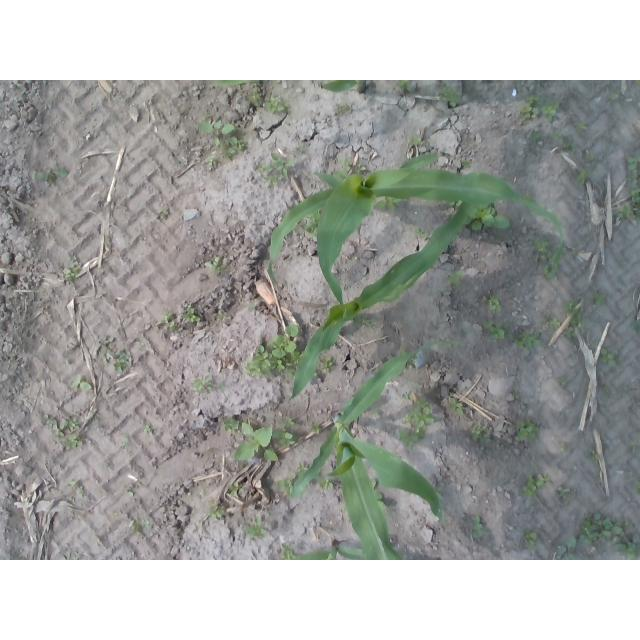Maize: (268, 153, 564, 311), (287, 202, 484, 402), (289, 341, 464, 560), (211, 80, 370, 94), (293, 538, 364, 560)
Weeds: (245, 325, 303, 379), (578, 512, 640, 560), (398, 398, 436, 449), (233, 422, 279, 462), (254, 152, 294, 190), (42, 413, 83, 449), (465, 202, 512, 232), (199, 114, 236, 147), (98, 336, 130, 373), (520, 474, 554, 499), (333, 158, 368, 182), (552, 534, 578, 560), (483, 320, 514, 341), (192, 375, 226, 394), (563, 300, 585, 329), (520, 94, 544, 120), (302, 208, 323, 237), (34, 168, 69, 185), (514, 419, 539, 442), (371, 478, 388, 511), (62, 256, 82, 283), (624, 152, 640, 185), (244, 515, 266, 539), (514, 331, 543, 349), (471, 420, 492, 444), (438, 82, 458, 107), (277, 471, 296, 497), (372, 194, 401, 211), (179, 301, 201, 323), (533, 239, 554, 262), (157, 312, 179, 333), (224, 137, 246, 158), (445, 270, 464, 293), (264, 98, 288, 115), (205, 501, 226, 520), (599, 349, 620, 368), (280, 430, 301, 448), (71, 375, 94, 391), (472, 516, 488, 539), (203, 256, 225, 272), (352, 316, 377, 330), (524, 529, 539, 552), (543, 100, 560, 120), (129, 519, 151, 534), (67, 480, 85, 498), (279, 542, 297, 560), (400, 350, 417, 369), (221, 416, 240, 433), (482, 295, 502, 311), (228, 480, 245, 497), (556, 486, 573, 503), (448, 398, 464, 415), (629, 186, 640, 210), (576, 169, 592, 184), (247, 89, 261, 106), (412, 226, 430, 239), (319, 356, 333, 372), (584, 448, 600, 462), (591, 291, 606, 305), (560, 327, 576, 340), (397, 80, 412, 93), (617, 205, 632, 218), (627, 438, 640, 453), (336, 105, 353, 116), (318, 479, 334, 490), (280, 417, 297, 427), (296, 461, 308, 475), (411, 135, 426, 145), (577, 123, 590, 134), (548, 316, 561, 327), (311, 420, 321, 434), (446, 199, 463, 207), (564, 140, 575, 152), (552, 130, 563, 141), (520, 191, 532, 201), (206, 156, 219, 165), (61, 554, 80, 560), (557, 377, 568, 387), (217, 310, 228, 320), (460, 159, 470, 169), (401, 391, 411, 401), (143, 425, 153, 435), (531, 132, 542, 141), (634, 478, 640, 494), (609, 92, 619, 101), (560, 441, 569, 451), (512, 389, 521, 399), (126, 487, 135, 497), (160, 209, 169, 218), (92, 412, 101, 420), (602, 386, 611, 394), (248, 304, 256, 311), (373, 409, 380, 416), (451, 385, 457, 391)
